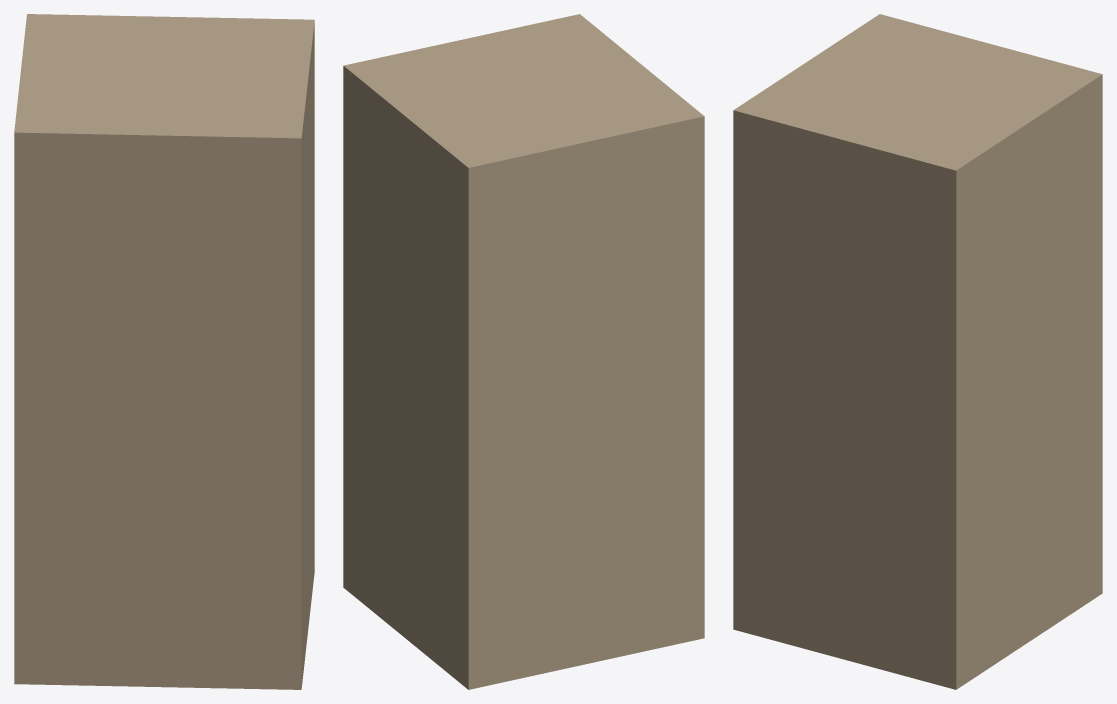
The model's file is bld_100469770.dae.
3 views of the same model, side by side, from view 1: azimuth 30°, elevation 25°; view 2: azimuth 150°, elevation 25°; view 3: azimuth 270°, elevation 25° (orthographic). The views are drawn at different scales.
Parts seen in each view (by area): view 1: bld_100469770; view 2: bld_100469770; view 3: bld_100469770.
Part boxes in pixels (<box>): bld_100469770: <box>14,14,314,689</box>; bld_100469770: <box>343,14,704,689</box>; bld_100469770: <box>733,14,1102,689</box>.
Size of the model in its own units: 5.18 by 5.16 by 8.
